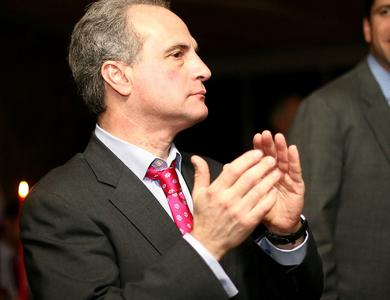person: (20, 2, 327, 300)
